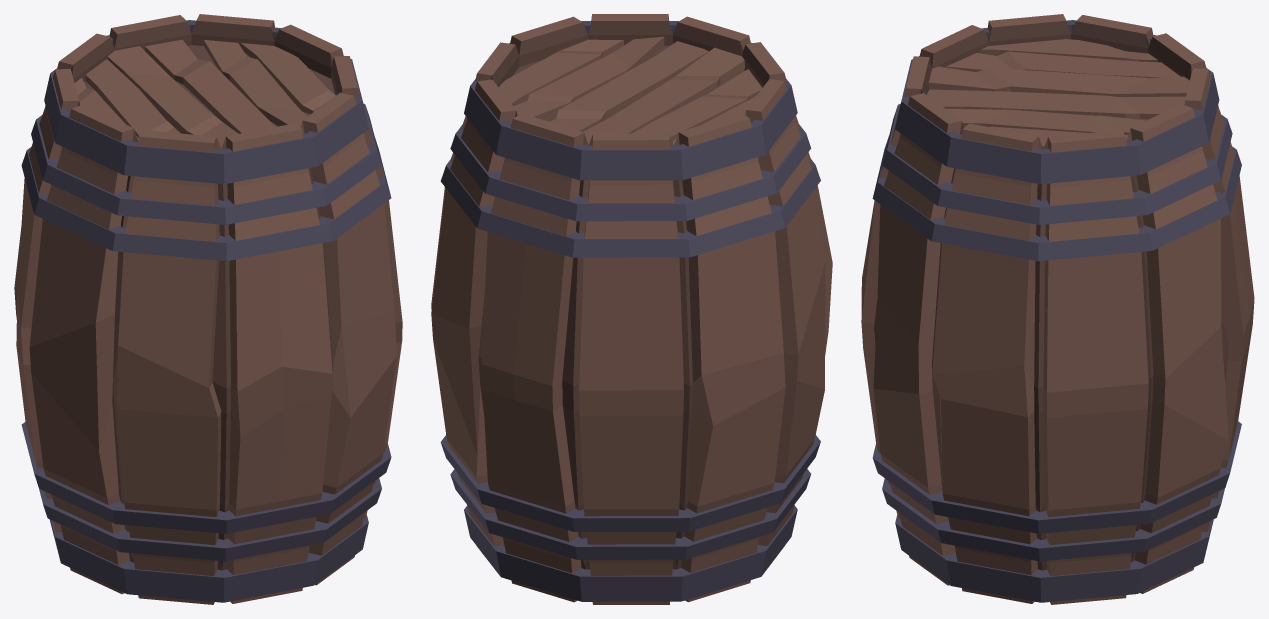
The model's file is barrel.glb.
3 renders of one model, left to right at view 1: azimuth 30°, elevation 25°; view 2: azimuth 150°, elevation 25°; view 3: azimuth 270°, elevation 25°, orthographic.
Parts seen in each view (by area): view 1: Barrel; view 2: Barrel; view 3: Barrel.
Part boxes in pixels (x1,y1,x2,y2): Barrel: (14,14,402,604); Barrel: (431,14,832,604); Barrel: (861,14,1254,604).
Bounding box in the file's own units: 1.04 × 1.35 × 1.03.
Materials: 1 (1 with a texture image).
